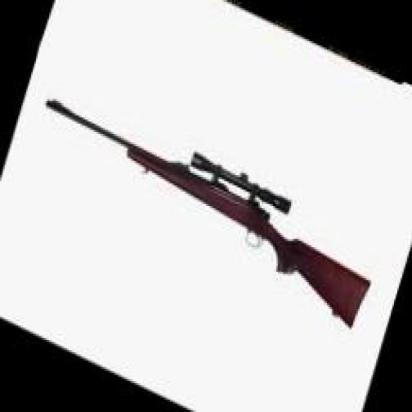Gun: (52, 85, 365, 321)
